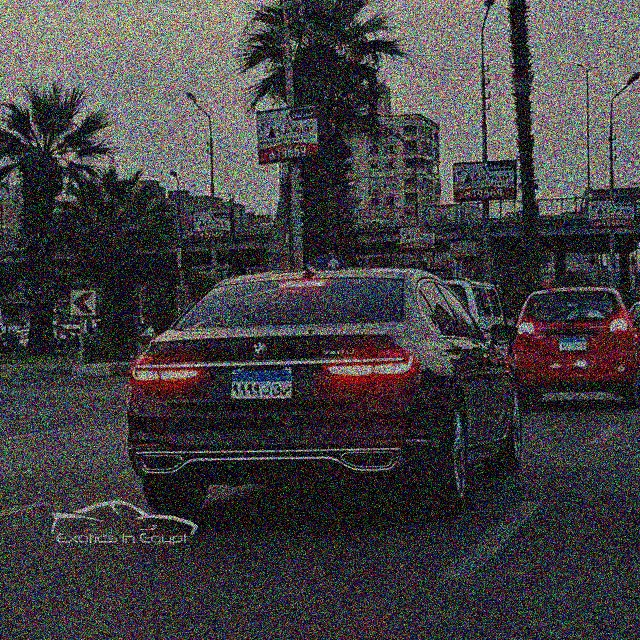License Plate: (228, 367, 296, 402), (557, 335, 587, 352)
